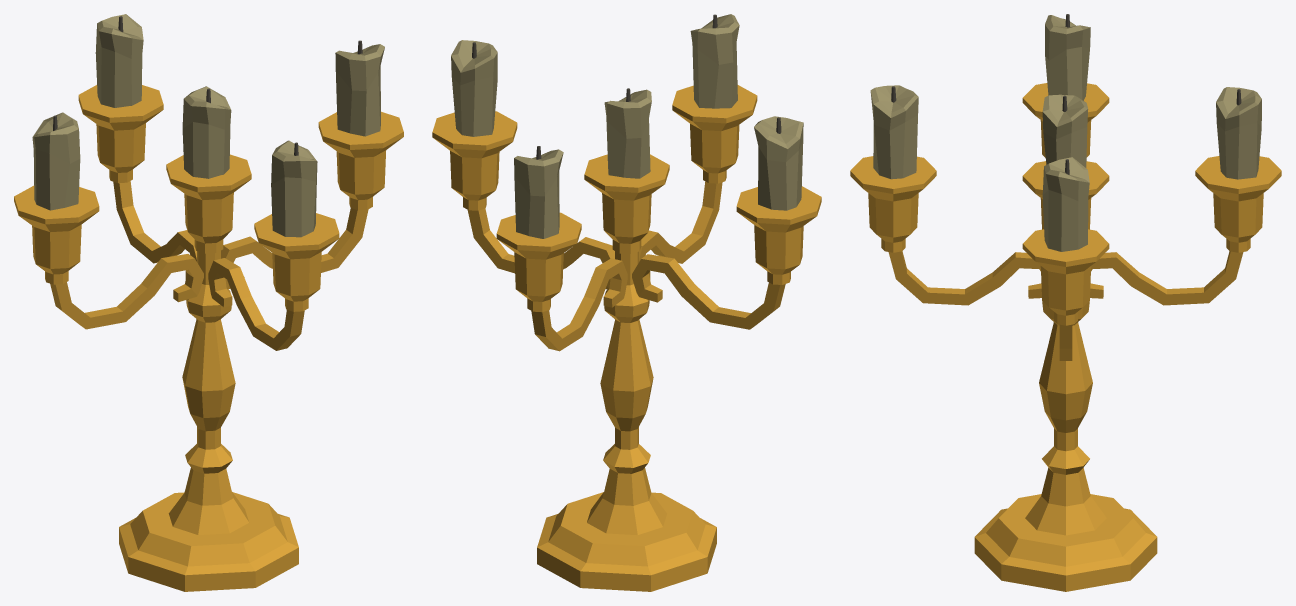
File: Candelabra_1.fbx
The picture shows the model from 3 angles, left to right: view 1: azimuth 30°, elevation 25°; view 2: azimuth 150°, elevation 25°; view 3: azimuth 270°, elevation 25°; orthographic projection.
Parts seen in each view (by area): view 1: Candelabra_1; view 2: Candelabra_1; view 3: Candelabra_1.
Boxes of the visible parts, <box> form: Candelabra_1: <box>14,14,403,591</box>; Candelabra_1: <box>432,14,821,591</box>; Candelabra_1: <box>850,14,1281,591</box>.
Bounding box in the file's own units: 37.44 × 44.63 × 37.44.
